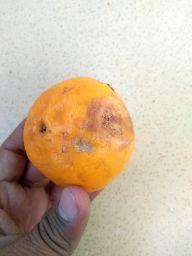Ripe: (23, 77, 133, 186)
